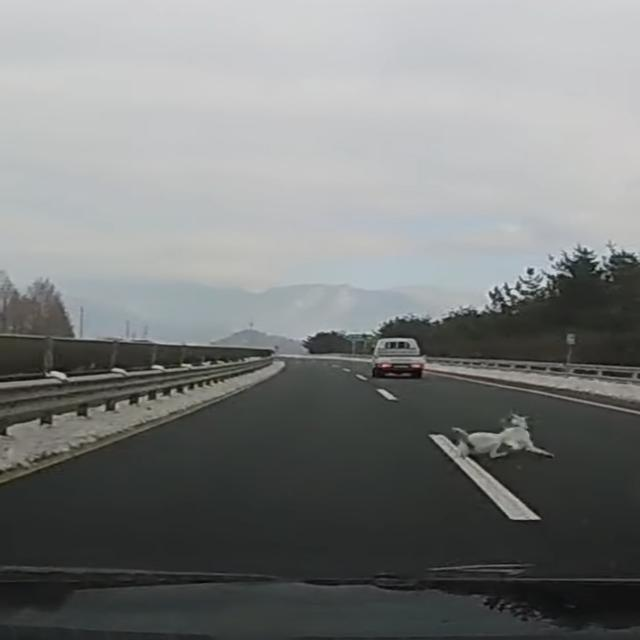dog: (436, 408, 557, 468)
